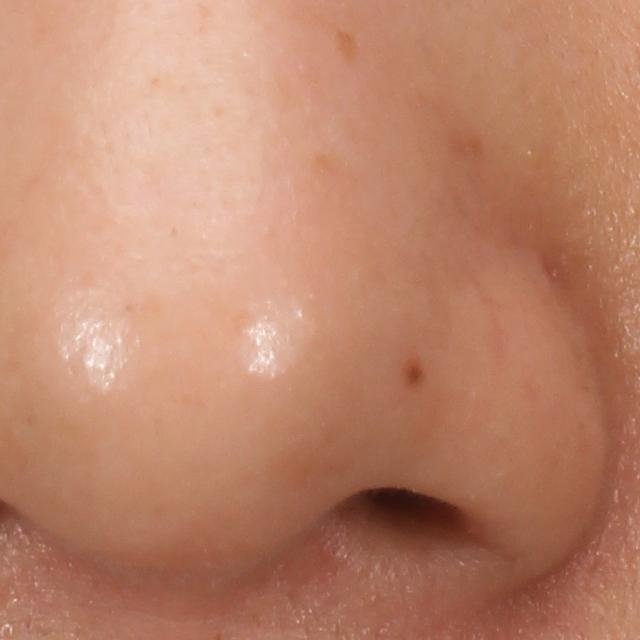melasma: (336, 29, 361, 63)
nevus: (402, 358, 428, 389)
